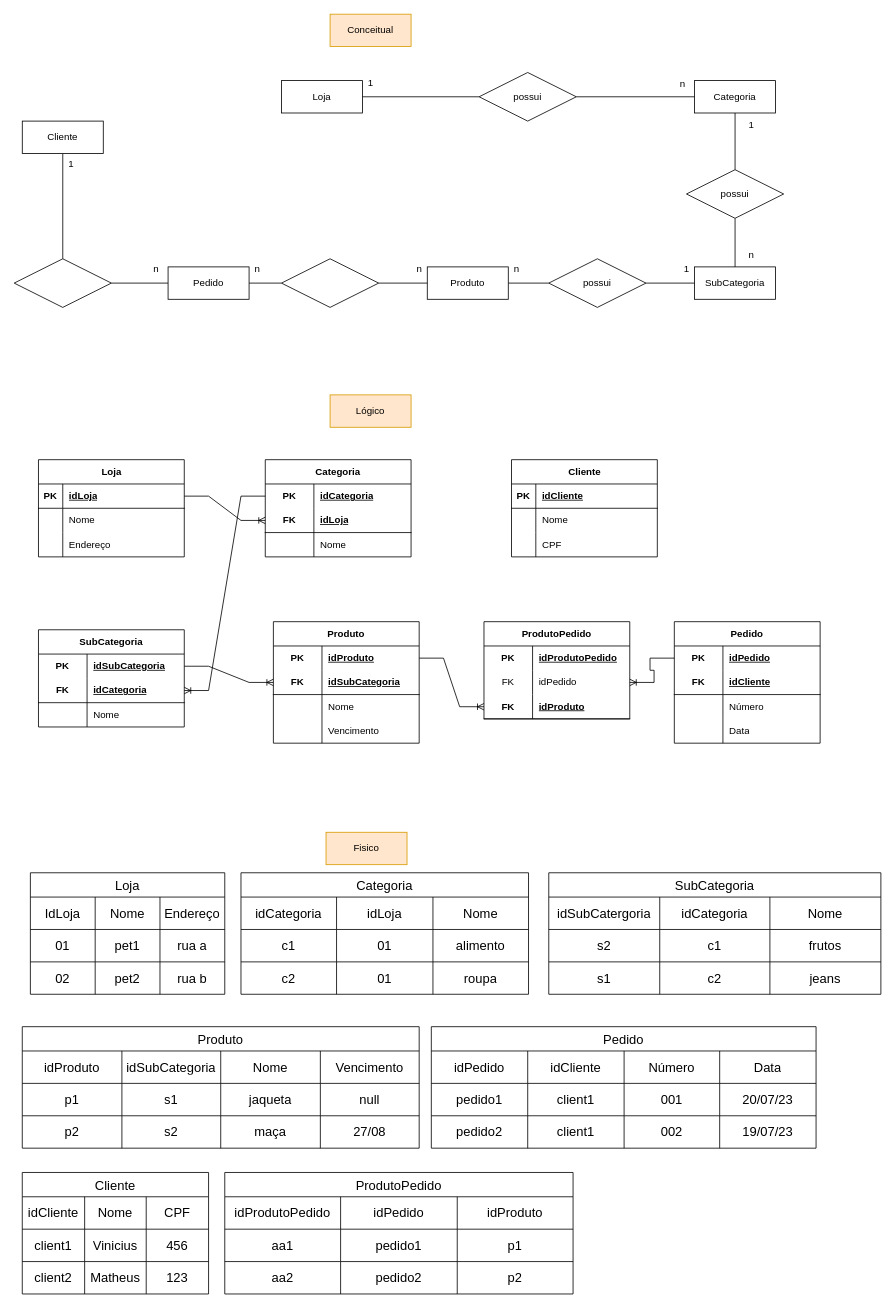
This 895x1308 diagram has some shape labels left out. Here are the shapes that lost their labels. From the top down, the centre of each, then its label:
the point at 62,282: faz
the point at 330,282: tem
